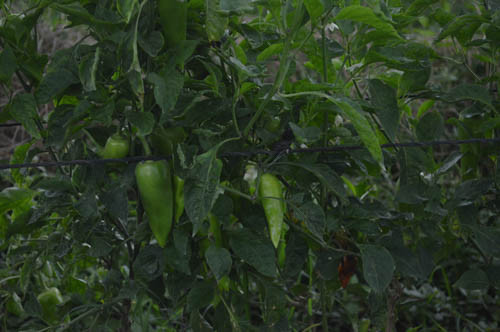ChiliPepper: (137, 161, 176, 246), (260, 173, 285, 249)
